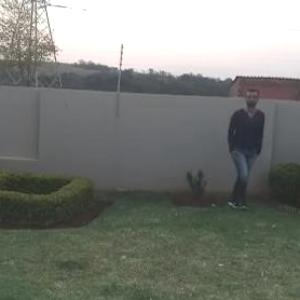follow: (217, 86, 270, 205)
